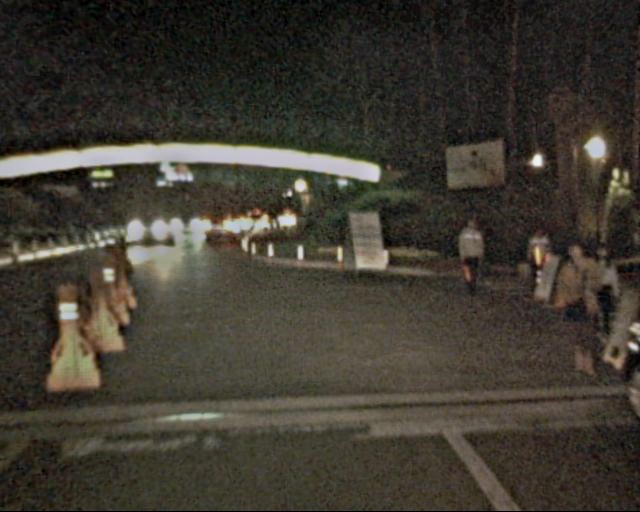person: (542, 238, 607, 370), (581, 236, 623, 359), (451, 214, 492, 304), (523, 227, 549, 291)
